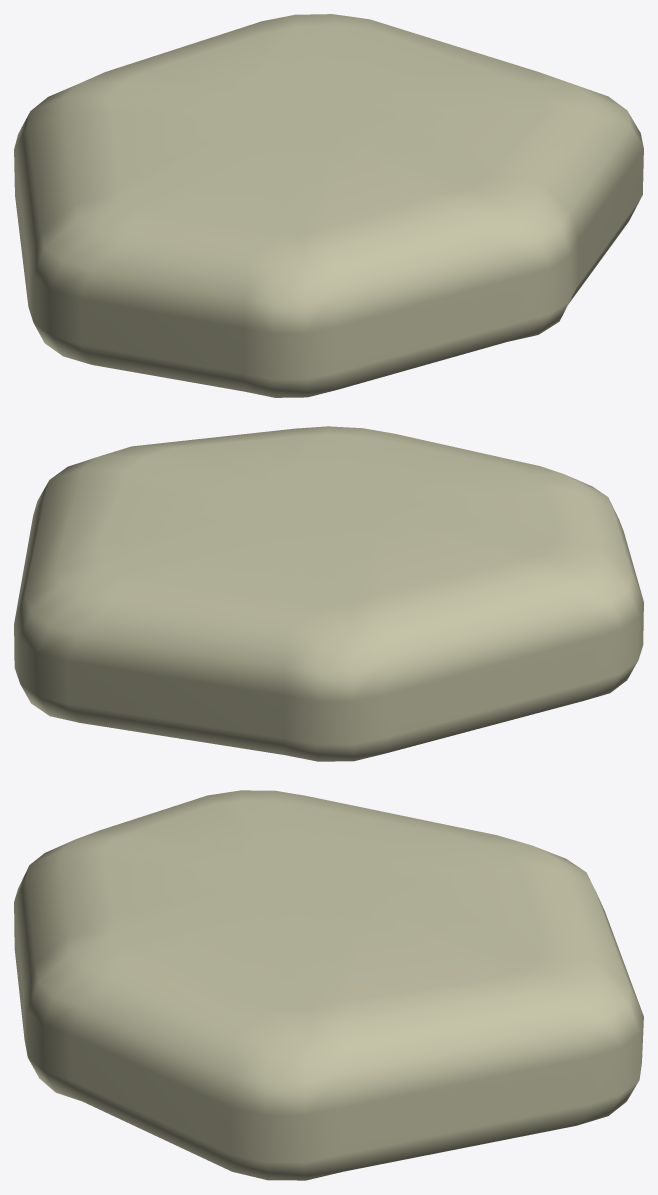
File: SandPiece.fbx
3 renders of one model, top to bottom at view 1: azimuth 30°, elevation 25°; view 2: azimuth 150°, elevation 25°; view 3: azimuth 270°, elevation 25°, orthographic. The views are drawn at different scales.
Parts seen in each view (by area): view 1: SandPiece; view 2: SandPiece; view 3: SandPiece.
Part boxes in pixels (x1=…): SandPiece: x1=14, y1=14, x2=643, y2=397; SandPiece: x1=14, y1=426, x2=643, y2=761; SandPiece: x1=14, y1=790, x2=643, y2=1180.
Bounding box in the file's own units: 2.08 × 0.5384 × 1.85.
